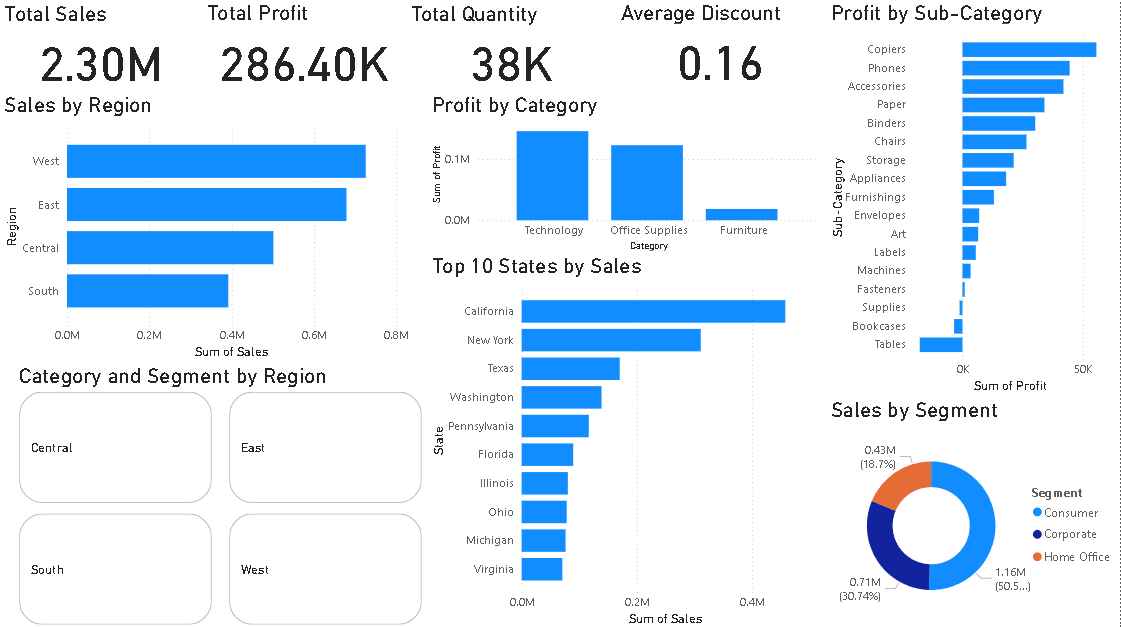

This screenshot's page, from the dashboard's own definition file:
{"tool":"powerbi","page":{"name":"Page 1","canvas":[1280,720],"ordinal":0},"visuals":[{"type":"card","title":"Total Profit","fields":{"Values":["Sum(SampleSuperstore.Profit)"]},"box":[232,0,232,106],"z":0,"group":"g1"},{"type":"group","id":"g1","title":"Group 1","box":[0,0,942,106],"z":6},{"type":"clusteredBarChart","title":"Sales by Region","fields":{"Category":["SampleSuperstore.Region"],"Y":["Sum(SampleSuperstore.Sales)"]},"box":[0,106.2,471.2,310],"z":7},{"type":"clusteredColumnChart","title":"Profit by Category","fields":{"Category":["SampleSuperstore.Category"],"Y":["Sum(SampleSuperstore.Profit)"]},"box":[489,106,453,186],"z":8},{"type":"donutChart","title":"Sales by Segment","fields":{"Category":["SampleSuperstore.Segment"],"Y":["Sum(SampleSuperstore.Sales)"]},"box":[943.8,453.8,336.2,266.2],"z":9},{"type":"clusteredBarChart","title":"Profit by Sub-Category","fields":{"Category":["SampleSuperstore.Sub-Category"],"Y":["Sum(SampleSuperstore.Profit)"]},"box":[944,0,336,454],"z":10},{"type":"clusteredBarChart","title":"Top 10 States by Sales","fields":{"Category":["SampleSuperstore.State"],"Y":["Sum(SampleSuperstore.Sales)"]},"box":[488.8,290,455,430],"z":11},{"type":"advancedSlicerVisual","title":"Category and Segment by Region","fields":{"Values":["SampleSuperstore.Region"]},"box":[17.5,416.2,471.2,303.8],"z":12},{"type":"card","title":"Total Sales","fields":{"Values":["Sum(SampleSuperstore.Sales)"]},"box":[0,2,232,103],"z":1000,"group":"g1"},{"type":"card","title":"Total Quantity","fields":{"Values":["Sum(SampleSuperstore.Quantity)"]},"box":[464,2,240,103],"z":2000,"group":"g1"},{"type":"card","title":"Average Discount","fields":{"Values":["Avg(SampleSuperstore.Discount)"]},"box":[704,0,238,104],"z":3000,"group":"g1"}]}

Visuals, with their boxes in screenshot pixels (x1, y1, x2, y2), scaled from the page's 1280x720 canvas onto the 1121x627 screenshot:
"Total Profit" card: 203/0/406/92
"Group 1" group: 0/0/825/92
"Sales by Region" clusteredBarChart: 0/92/413/362
"Profit by Category" clusteredColumnChart: 428/92/825/254
"Sales by Segment" donutChart: 827/395/1120/626
"Profit by Sub-Category" clusteredBarChart: 827/0/1120/395
"Top 10 States by Sales" clusteredBarChart: 428/253/827/626
"Category and Segment by Region" advancedSlicerVisual: 15/362/428/626
"Total Sales" card: 0/2/203/91
"Total Quantity" card: 406/2/617/91
"Average Discount" card: 617/0/825/91
